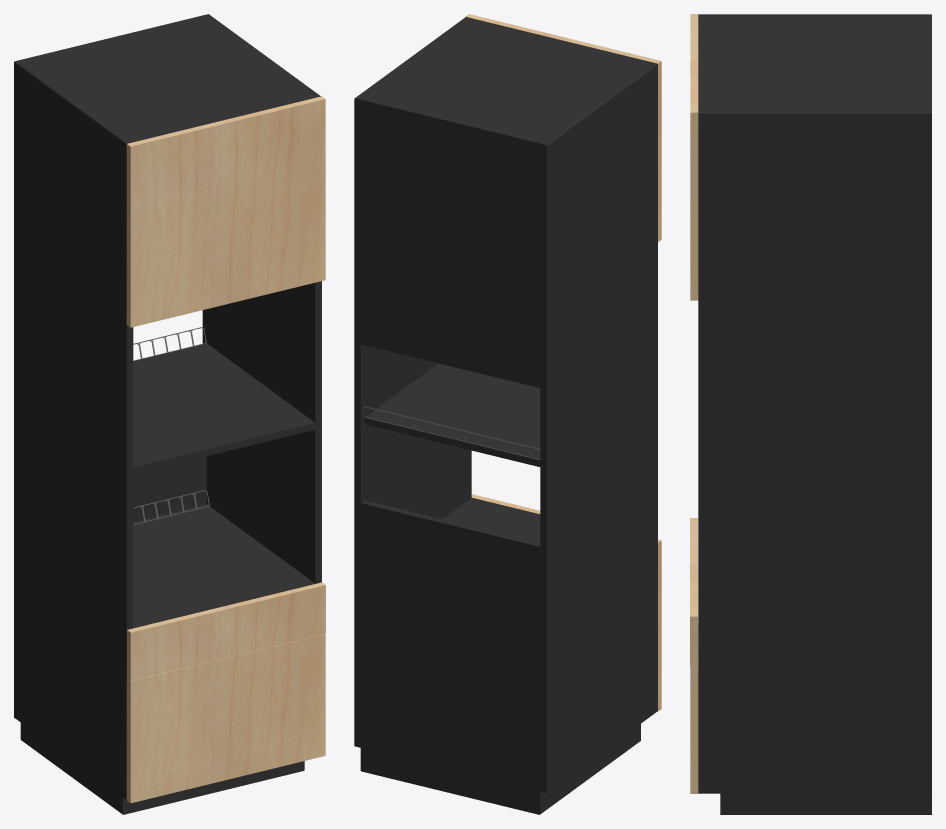
File: IKE150034.obj
3 views of the same model, side by side, from view 1: azimuth 30°, elevation 25°; view 2: azimuth 150°, elevation 25°; view 3: azimuth 270°, elevation 25° (orthographic). The views are drawn at different scales.
Parts seen in each view (by area): view 1: Box008, Box007, Box003, Box004, Box006; view 2: Box008, Box007; view 3: Box008, Box007, Box004, Box003.
Boxes of the visible parts, x1,y1,x2,y2 form: Box008: (14, 14, 321, 814); Box007: (126, 96, 325, 313); Box003: (126, 633, 325, 803); Box004: (127, 582, 325, 680); Box006: (126, 266, 325, 327); Box008: (354, 17, 657, 814); Box007: (465, 14, 661, 228); Box008: (698, 14, 931, 814); Box007: (690, 14, 698, 286); Box004: (690, 518, 697, 666); Box003: (690, 653, 698, 793).
Bounding box in the file's own units: 600 × 2000 × 621.
Materials: 4 (1 with a texture image).
